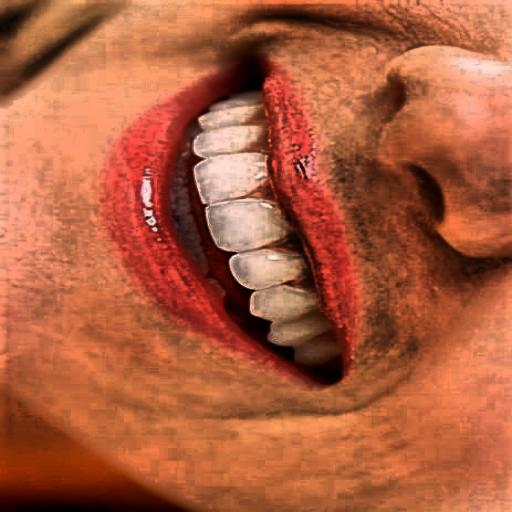Healthy: (104, 85, 422, 405)
